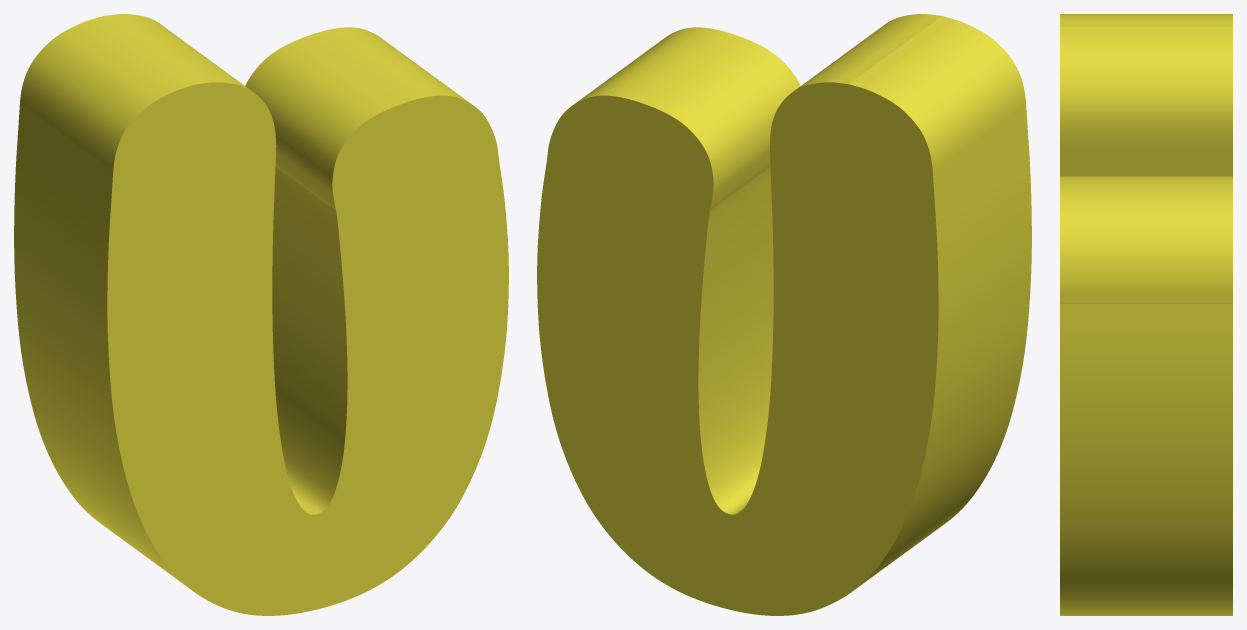
3 renders of one model, left to right at view 1: azimuth 30°, elevation 25°; view 2: azimuth 150°, elevation 25°; view 3: azimuth 270°, elevation 25°, orthographic. The views are drawn at different scales.
Parts seen in each view (by area): view 1: Text.003; view 2: Text.003; view 3: Text.003.
Boxes of the visible parts, x1,y1,x2,y2 form: Text.003: [14, 14, 508, 615]; Text.003: [537, 14, 1031, 615]; Text.003: [1060, 14, 1232, 615].
Bounding box in the file's own units: 2.56 × 3.37 × 1.03.
